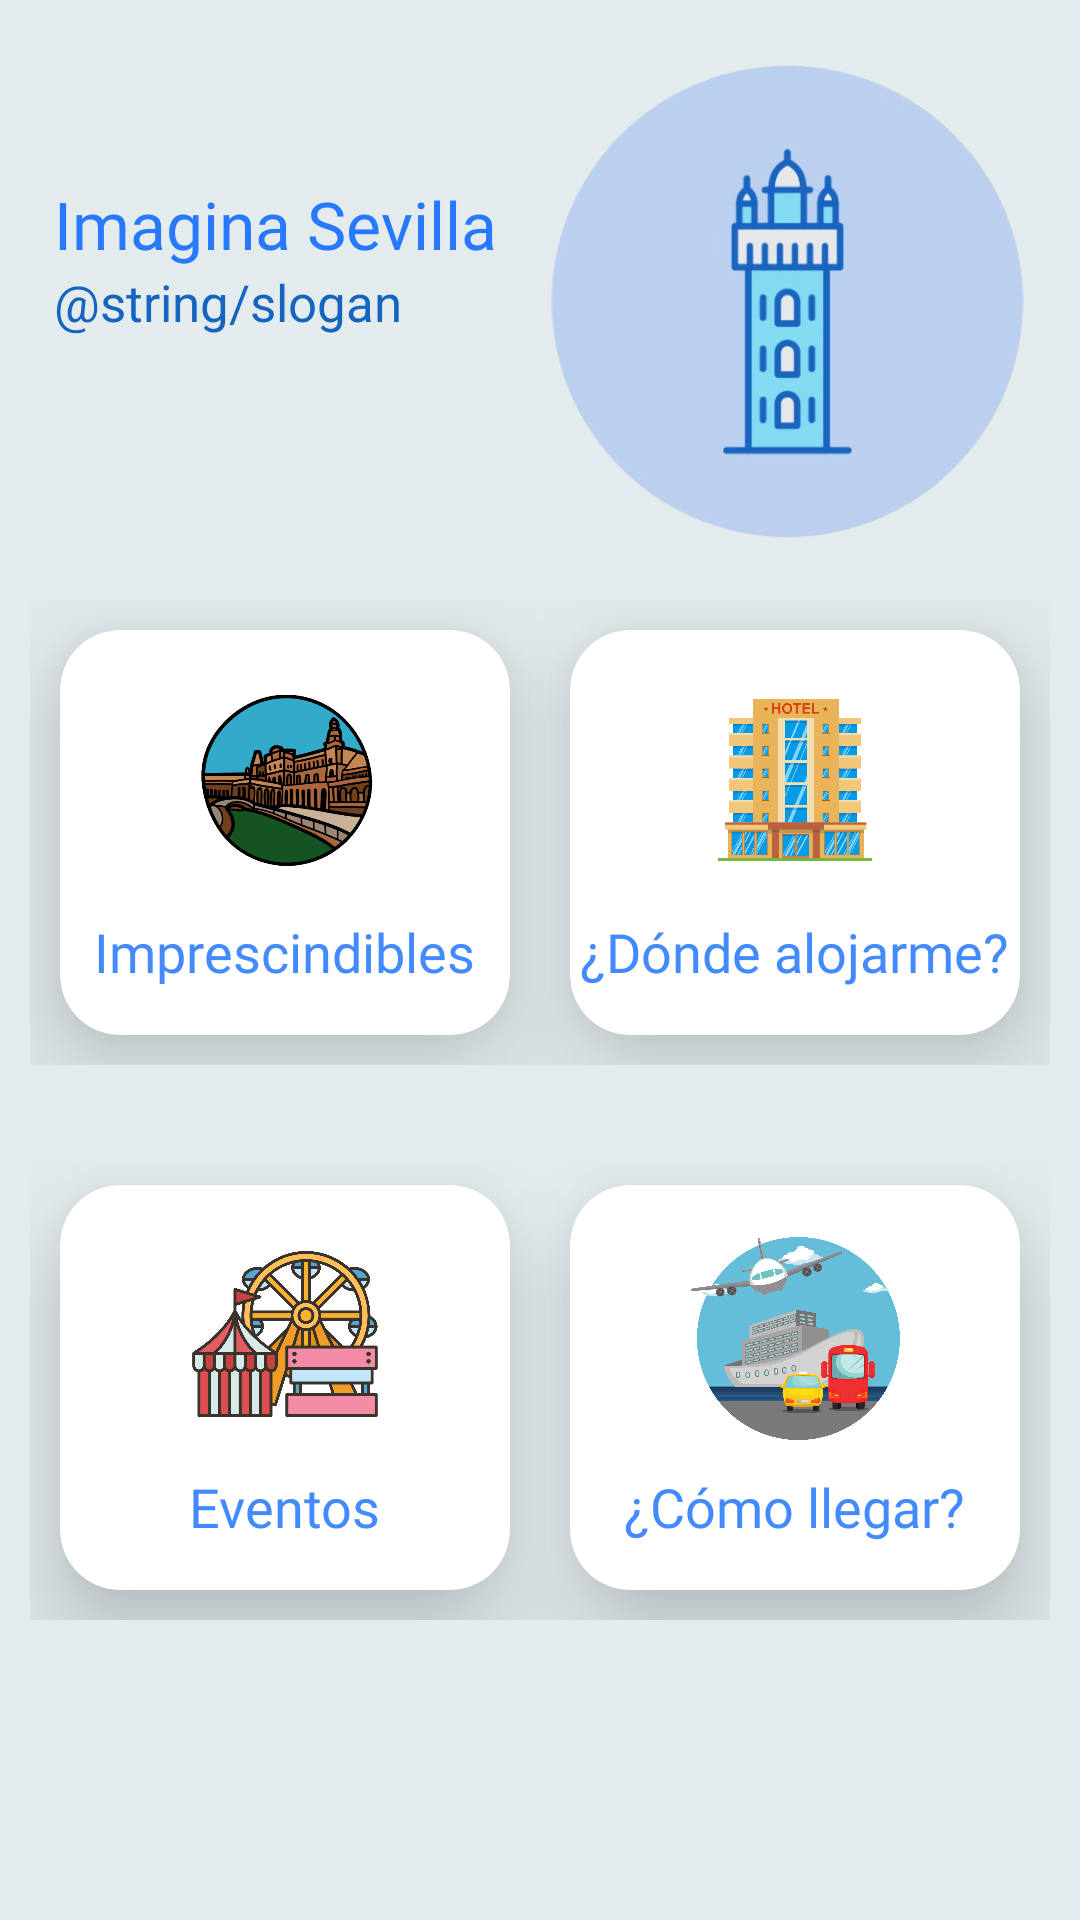

Named icons in this screenshot (1080px x 1920px) and their bounding boxes, (x1, y1, x2, y2):
Icono de la sección alojamiento: (718, 699, 873, 861)
